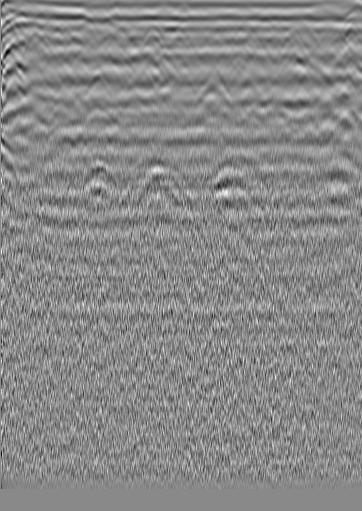가스: (82, 160, 118, 195)
상수: (329, 31, 349, 51)
오수: (24, 30, 44, 50)
우수: (195, 33, 215, 53)
